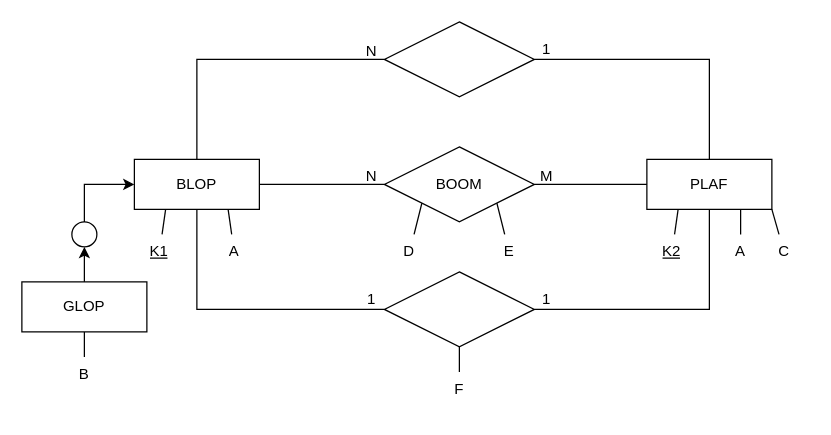
This 831x435 diagram has some shape labels left out. Each missing label, with the centre of its shape:
BANG: the point at 458,59
BLAT: the point at 458,309
